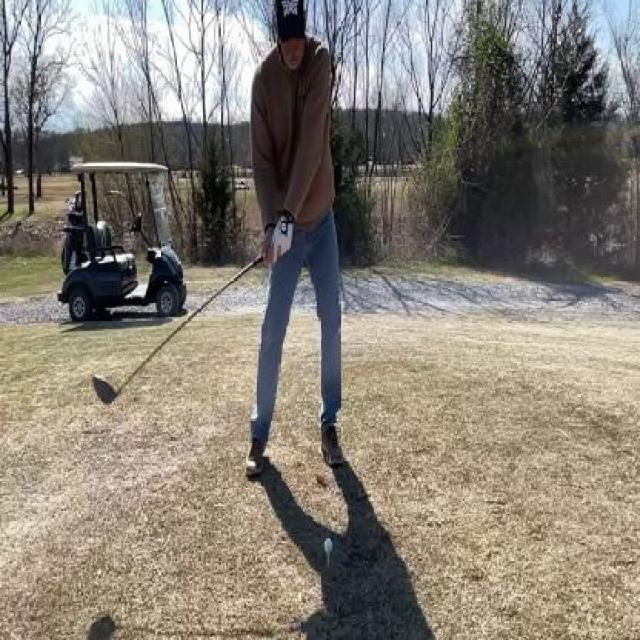club head: (89, 368, 122, 412)
